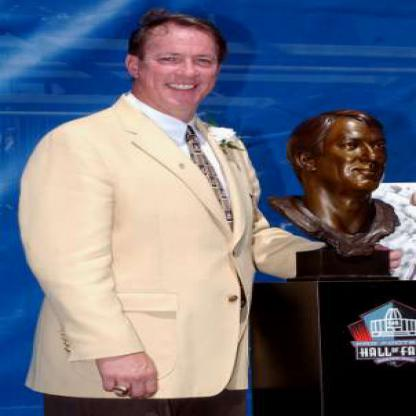face: (139, 17, 225, 110), (312, 113, 395, 197)
